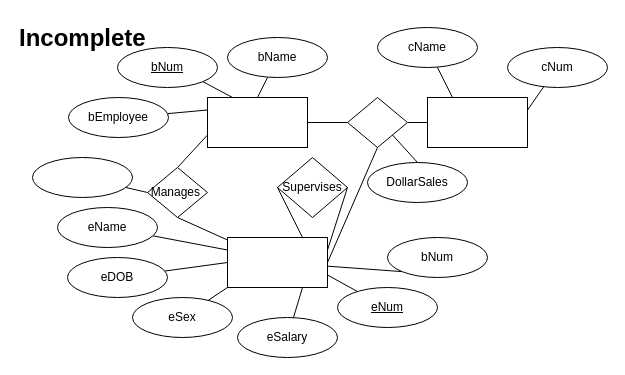
Some shapes in this 625 by 375 pixel diagram are drawn without their labels. Here are the shapes that lost their labels. From the top down, the centre of each, then its label:
At point 257,122: "Branch".
At point 377,122: "Sells to".
At point 477,122: "Client".
At point 82,177: "StartDate".
At point 277,262: "Employee".
